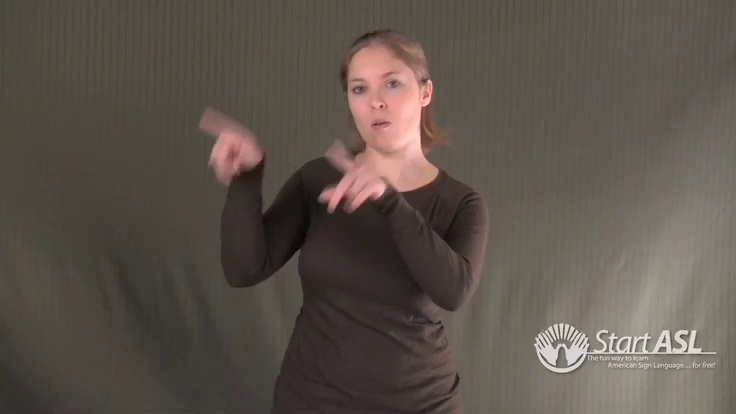go: (188, 104, 395, 214)
